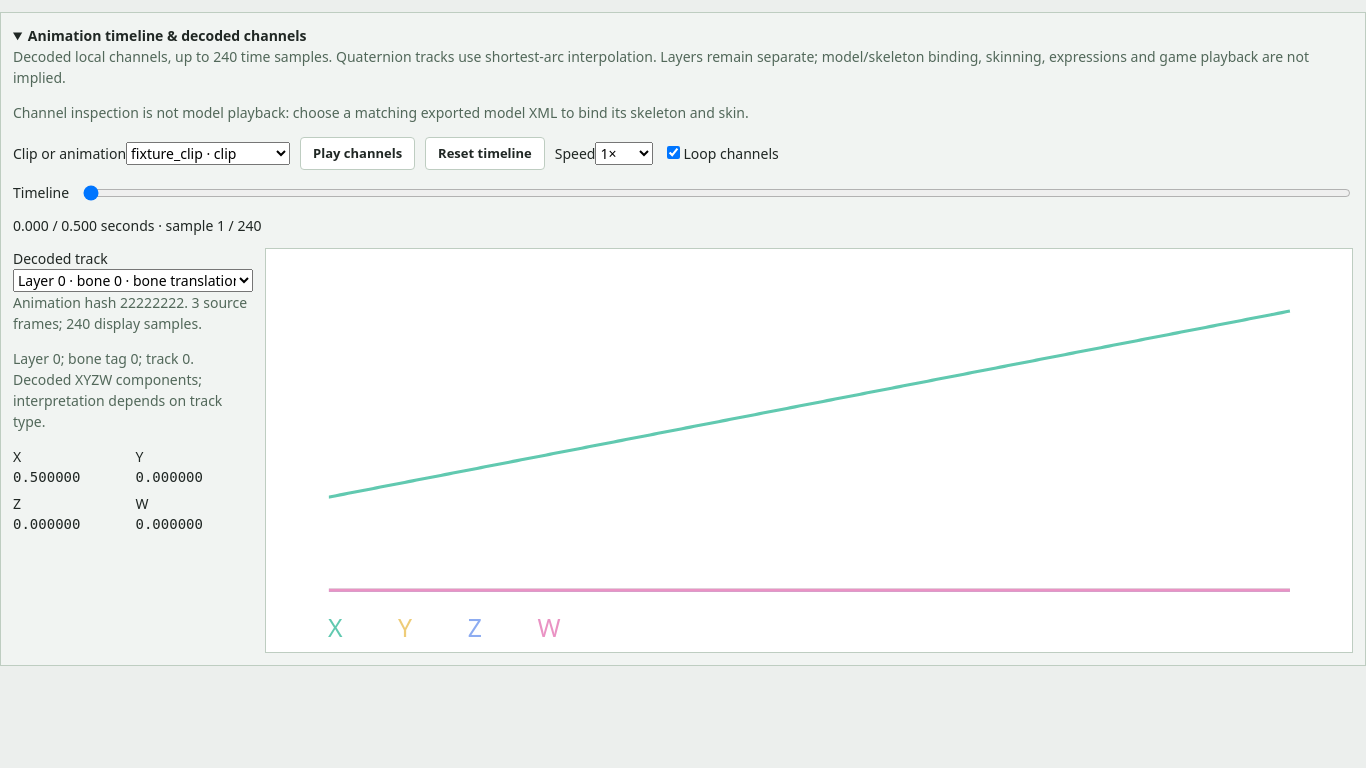
Test: respects speed and non-looping endpoint, and resets without a backend write
This screenshot has width=1366, height=768.
Step 1. Click the checkbox labelled "Loop channels" → [674, 152], box 668,146 -> 680,159
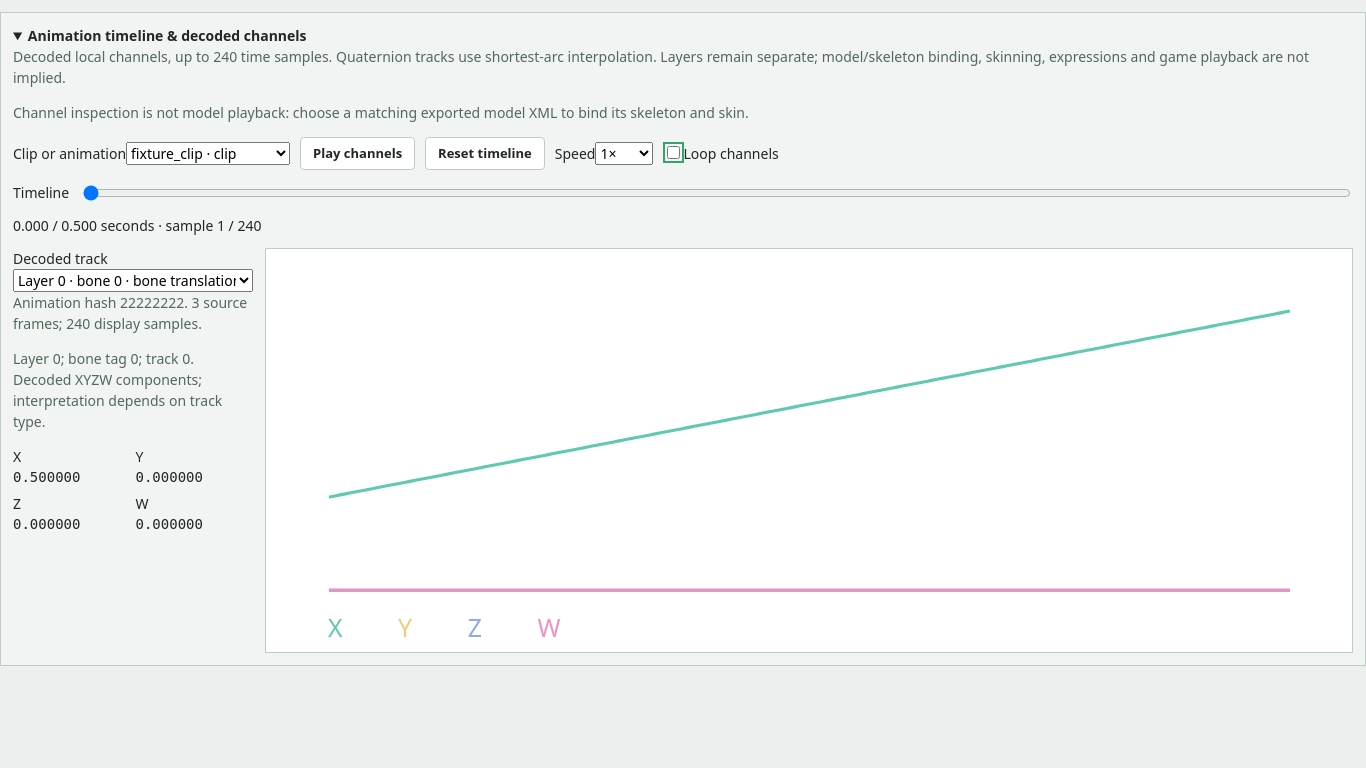
Step 2. Select "2×" in the dropdown named "Animation speed" → [624, 154], box 596,142 -> 654,165
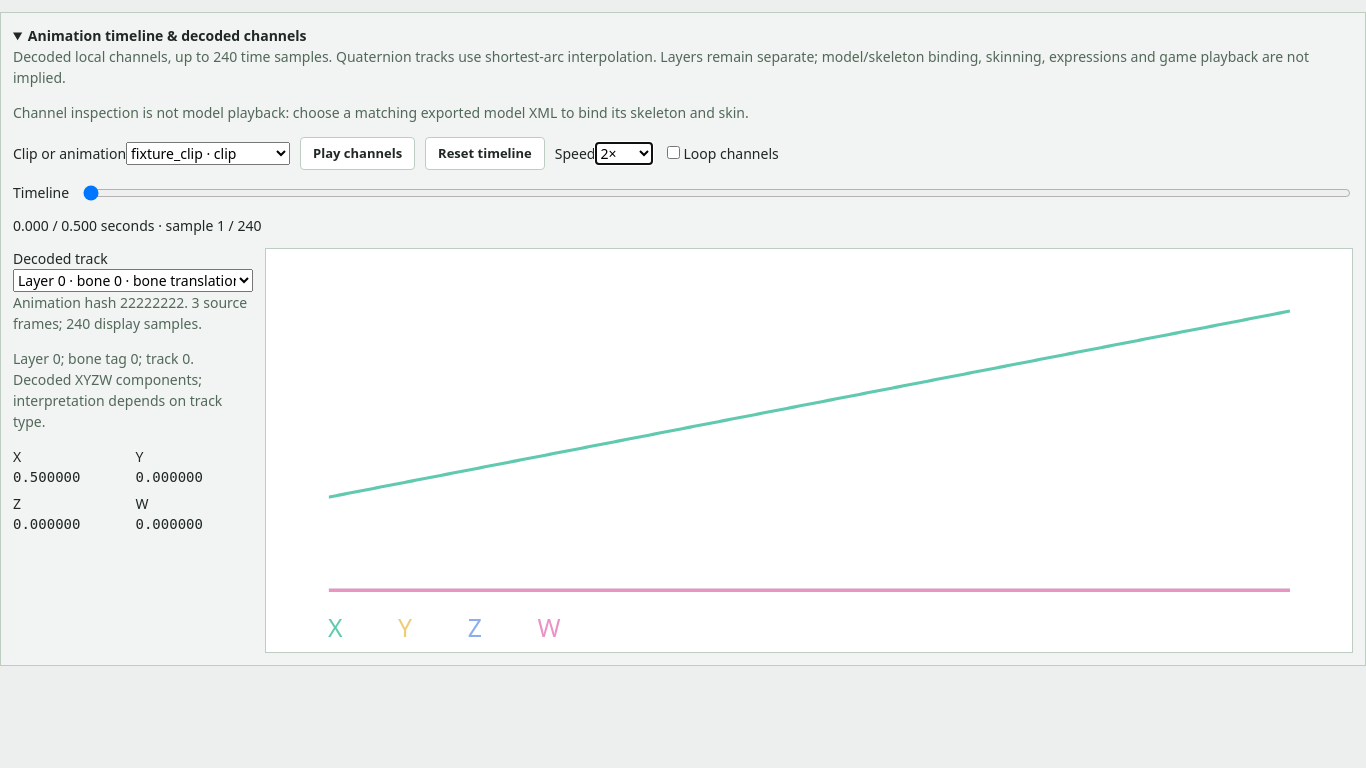
Step 3. Click the button "Play channels" → [358, 154], box 300,137 -> 415,170
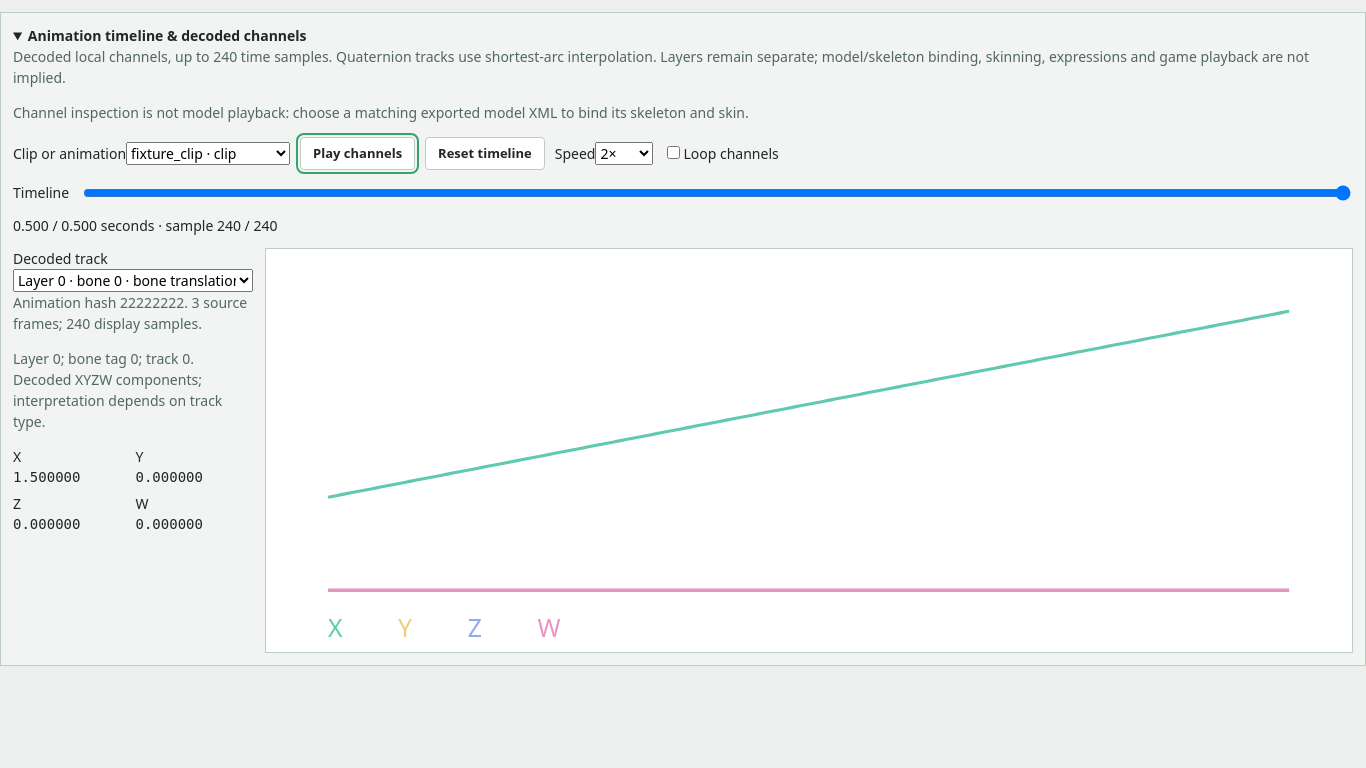
Result: the text named "Animation timestamp" shows "0.500 / 0.500" at 13,216 -> 278,235
Step 4. Click the button "Reset timeline" → [485, 154], box 425,137 -> 545,170
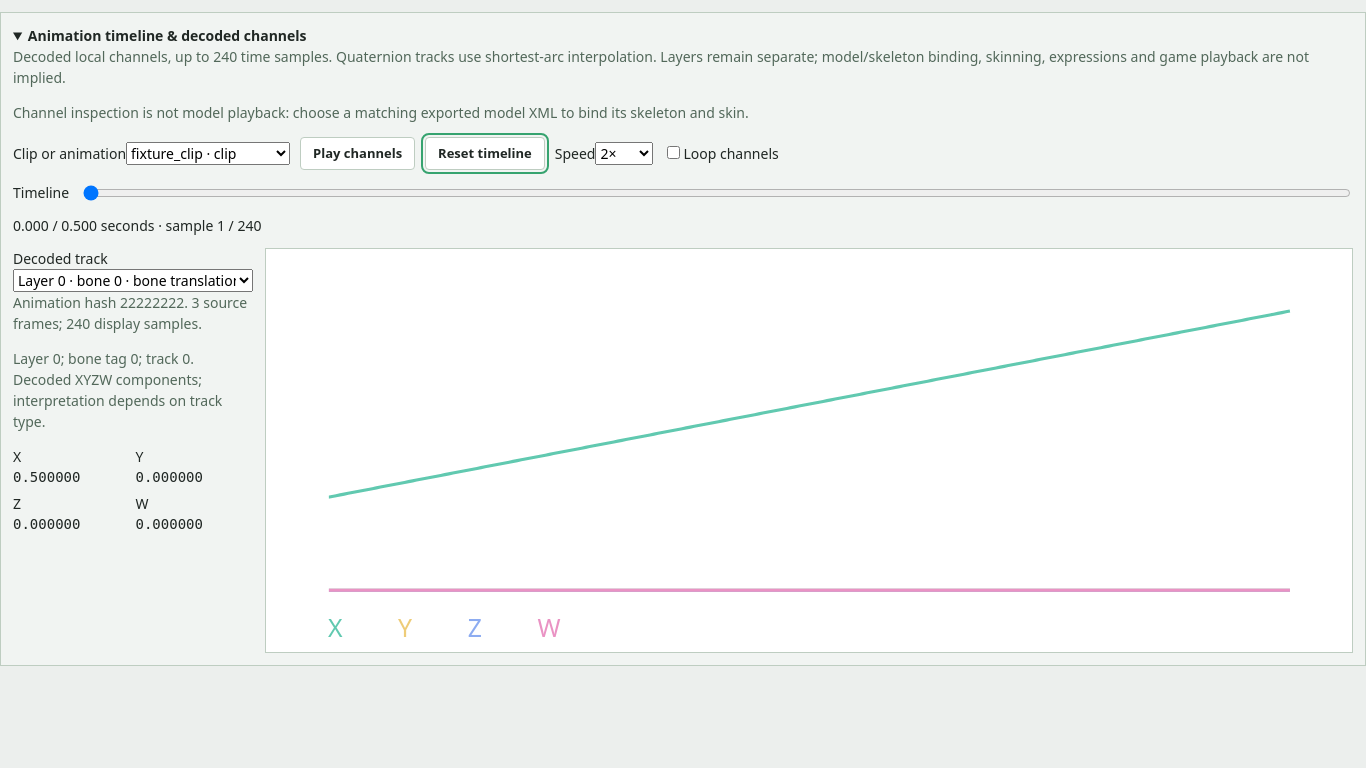
Result: the slider named "Animation time" holds "0" at 83,184 -> 1351,200
